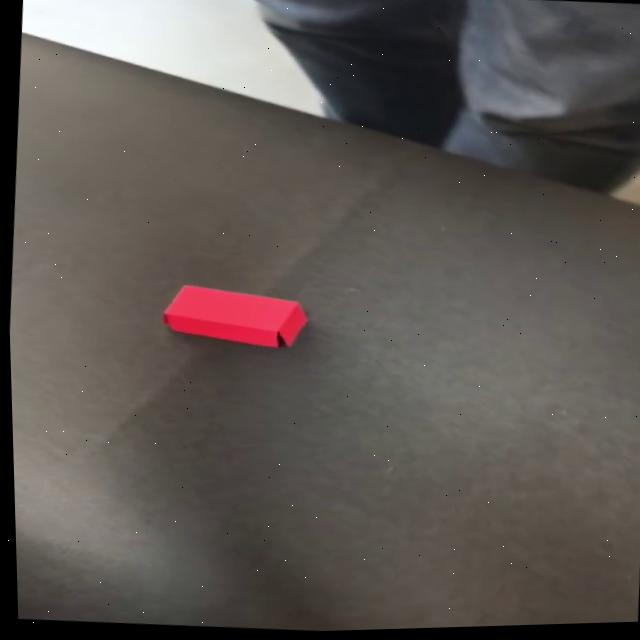red block: (157, 277, 309, 352)
